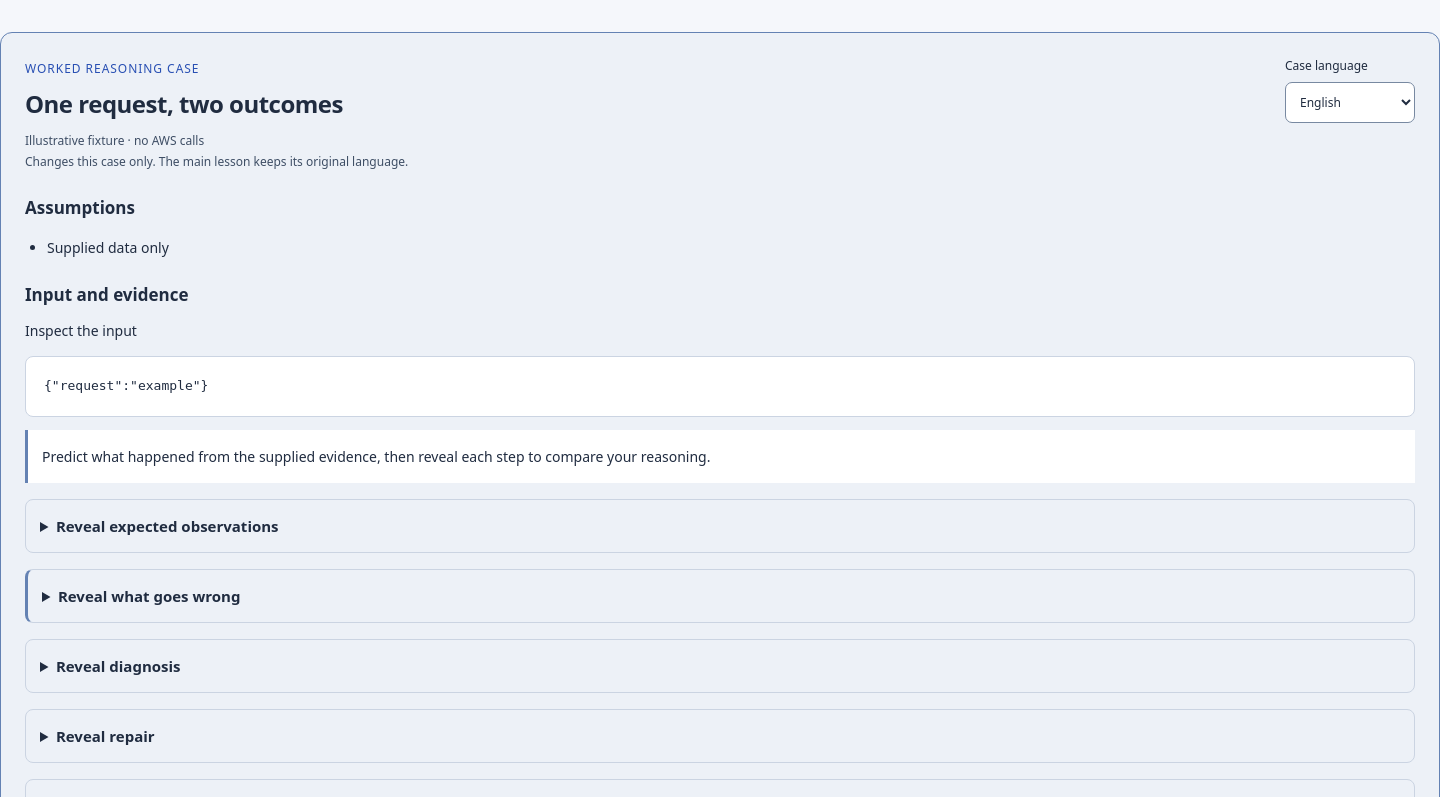
it: switches case language while preserving code and official source links
Select "Tiếng Việt" in the dropdown named "Worked case language" at (1350, 102), box left=1285, top=82, right=1415, bottom=123
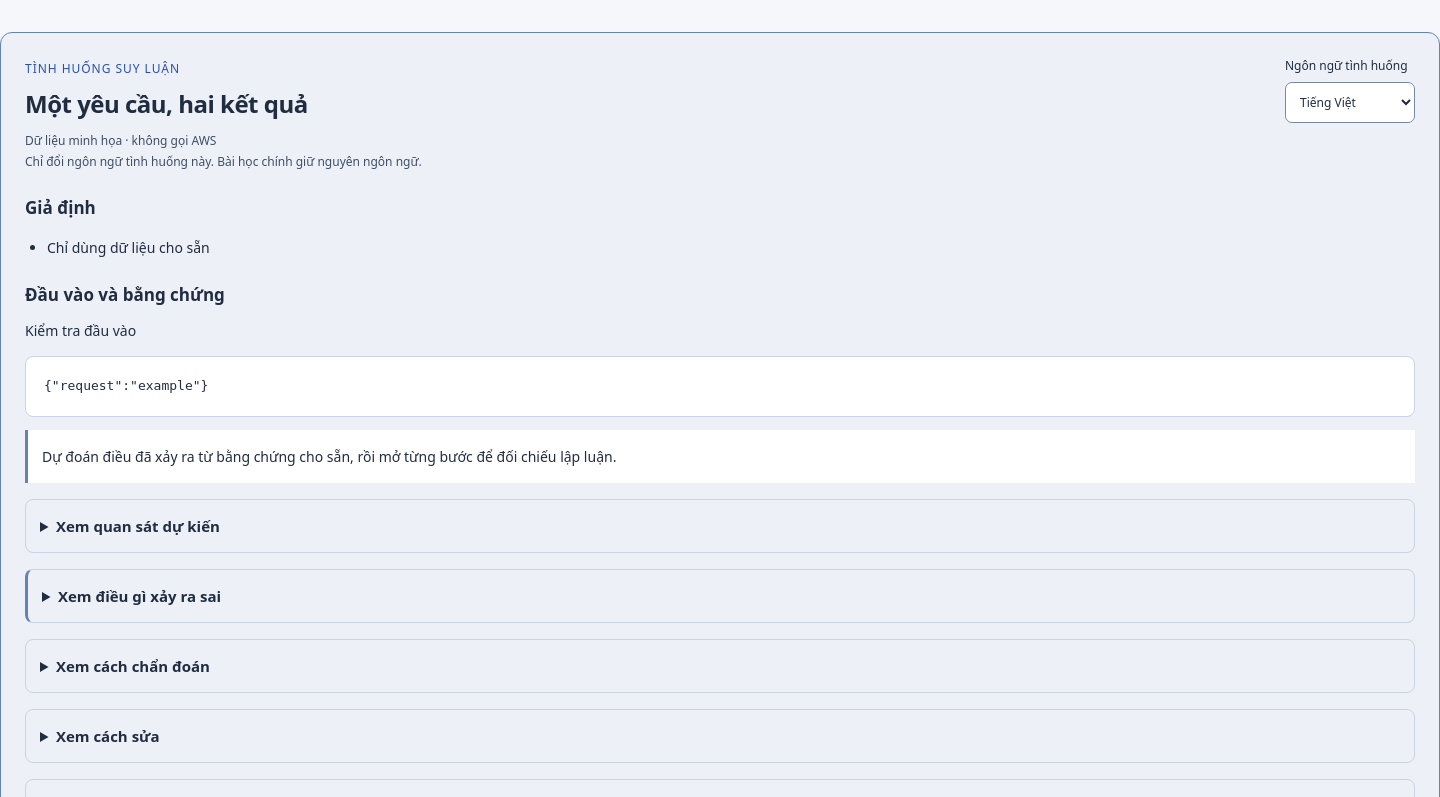
Expected: the text "{\"request\":\"example\"}" is shown, left=44, top=378, right=208, bottom=393
Now the heading "Một yêu cầu, hai kết quả" is shown, box left=25, top=87, right=308, bottom=121
Now the text "Dữ liệu minh họa · không gọi AWS" is shown, box left=25, top=132, right=216, bottom=149
